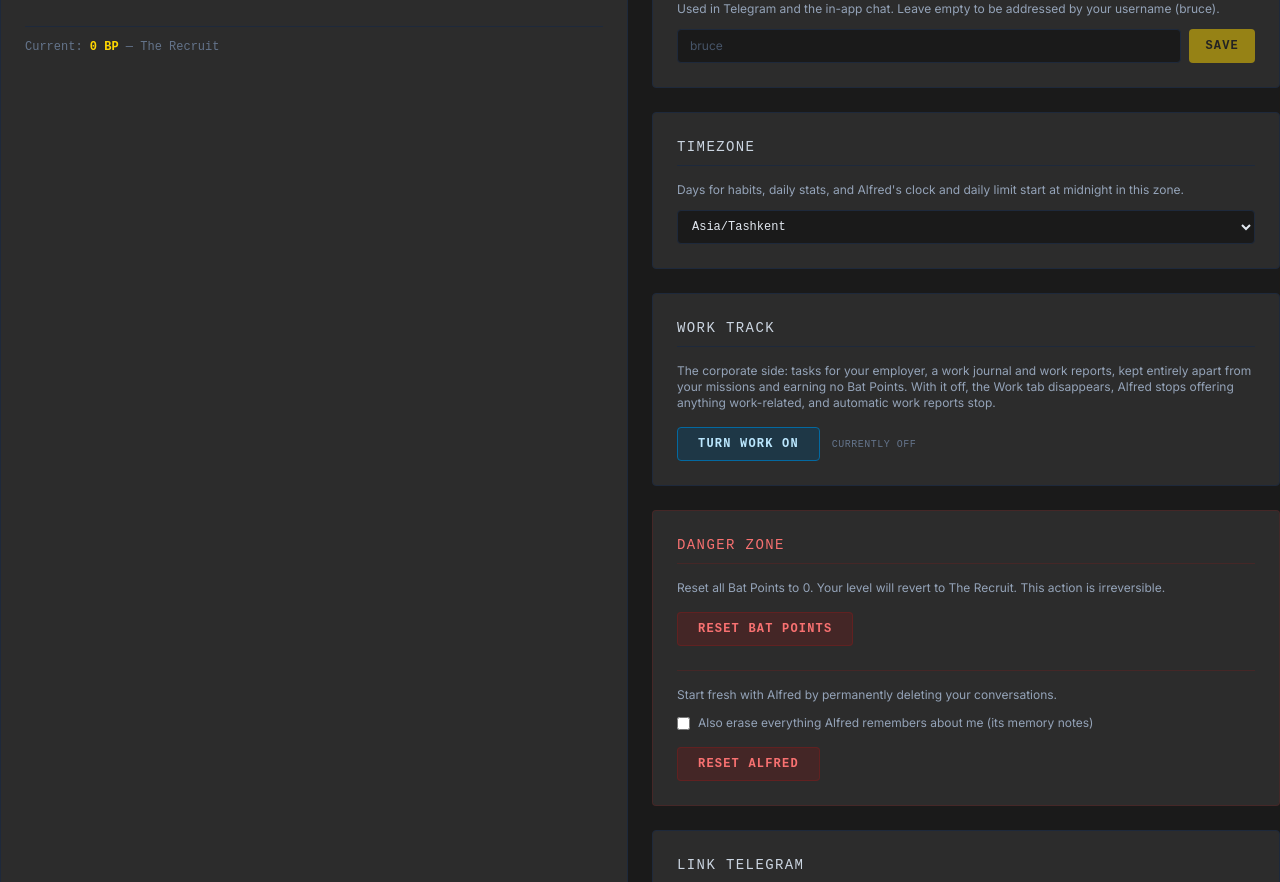
Test: the work track switch in Profile › surfaces a failed switch instead of lying about the state
(page scrolled)
Click the button "TURN WORK ON": (748, 444) [677,427,820,461]
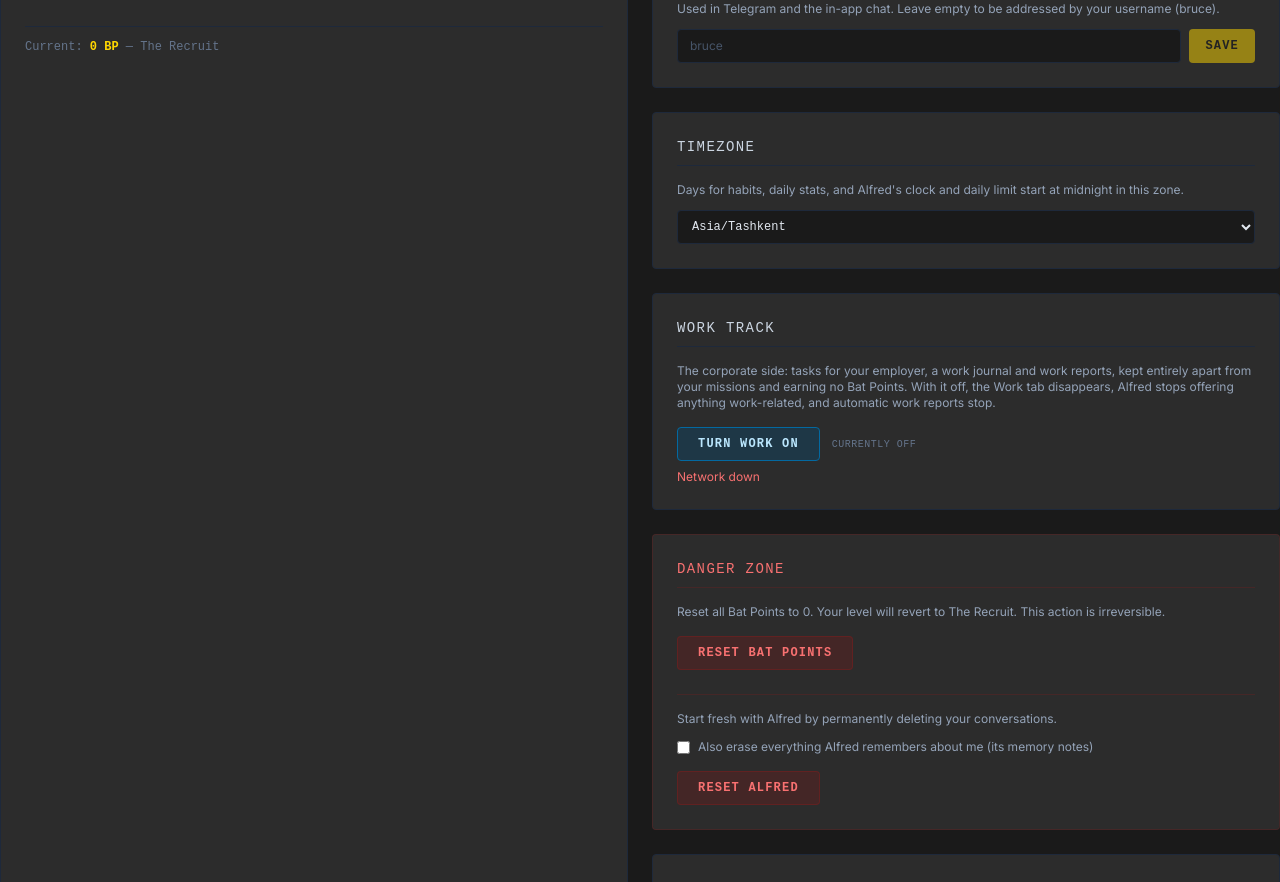
Check: the text "CURRENTLY OFF" is shown, box [832,436,916,452]
Check: the text "Network down" is shown, box [677,469,760,484]
